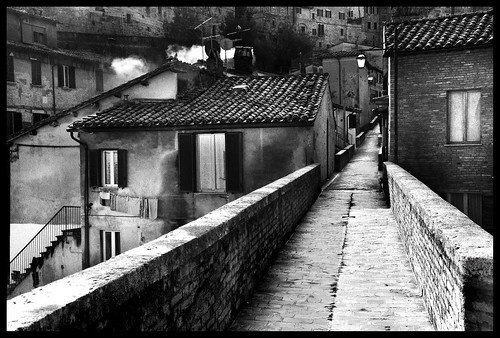building: (84, 64, 329, 268), (393, 1, 500, 193), (6, 1, 235, 50), (1, 43, 120, 133), (237, 1, 381, 63)
